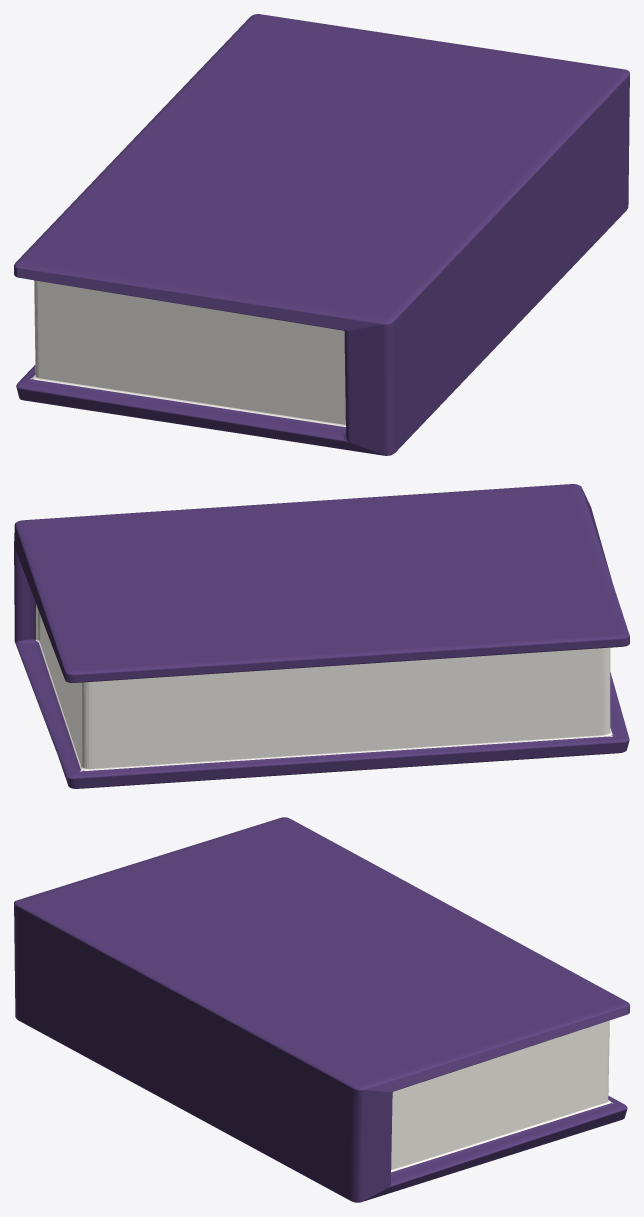
Rendered from book7.fbx.
3 views of the same model, one above another, from view 1: azimuth 30°, elevation 25°; view 2: azimuth 150°, elevation 25°; view 3: azimuth 270°, elevation 25° (orthographic). The views are drawn at different scales.
Visible parts, largest first — view 1: book7; view 2: book7; view 3: book7.
Boxes of the visible parts, x1=… form: book7: x1=14, y1=14, x2=629, y2=455; book7: x1=14, y1=484, x2=629, y2=788; book7: x1=14, y1=817, x2=629, y2=1202.
Bounding box in the file's own units: 47.37 × 9.97 × 44.8.
